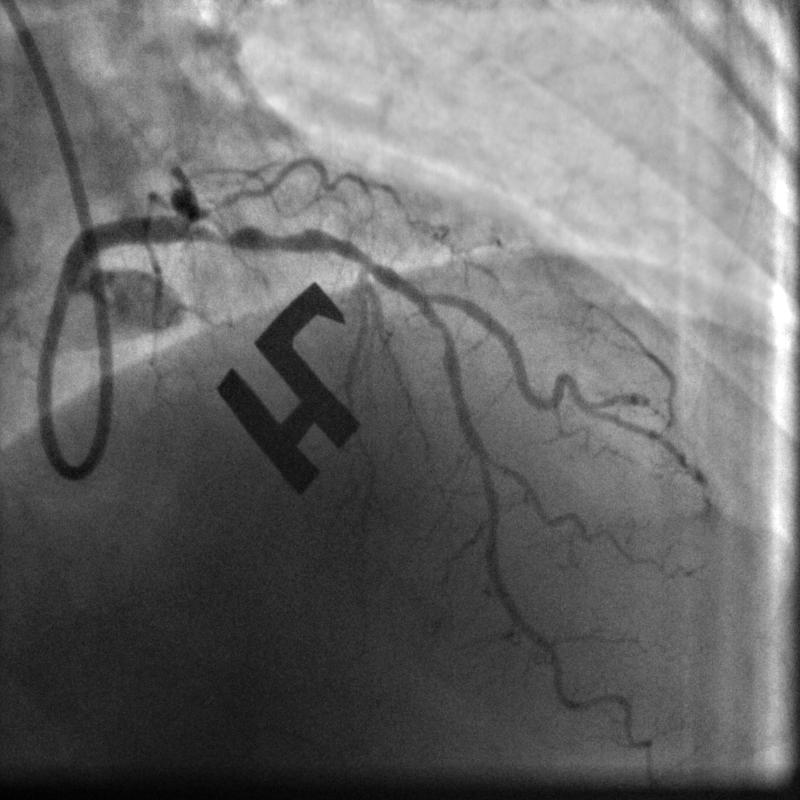Stenosis: (203, 219, 309, 254)
